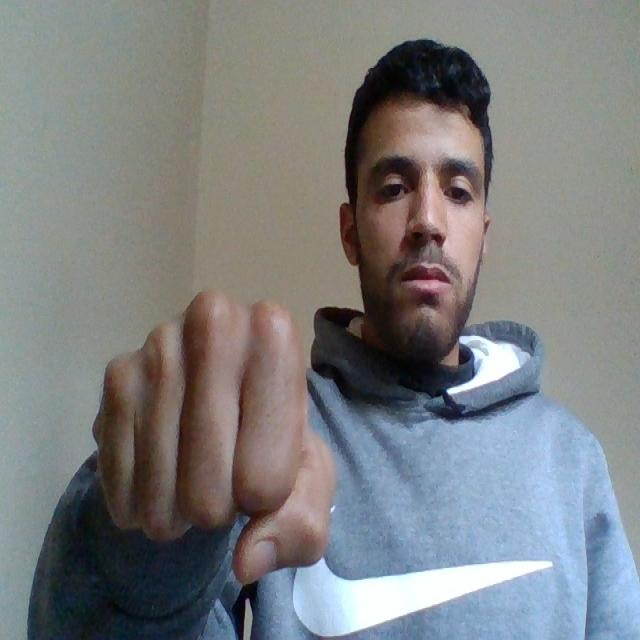No: (85, 281, 346, 591)
